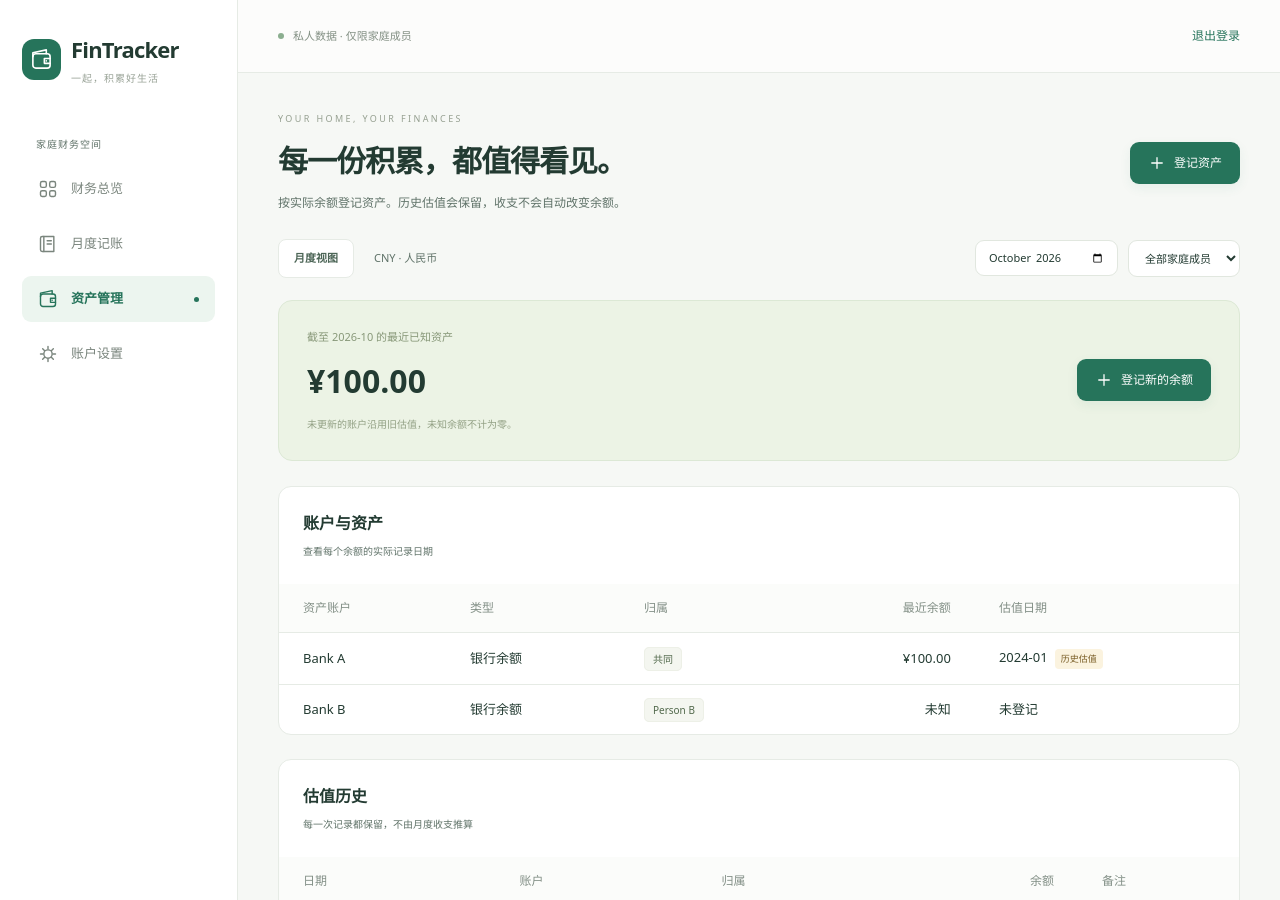
Scenario: household interface › updates selected assets only and never resets omitted accounts
Click the button "登记新的余额": (1144, 380) [1077,359,1211,401]
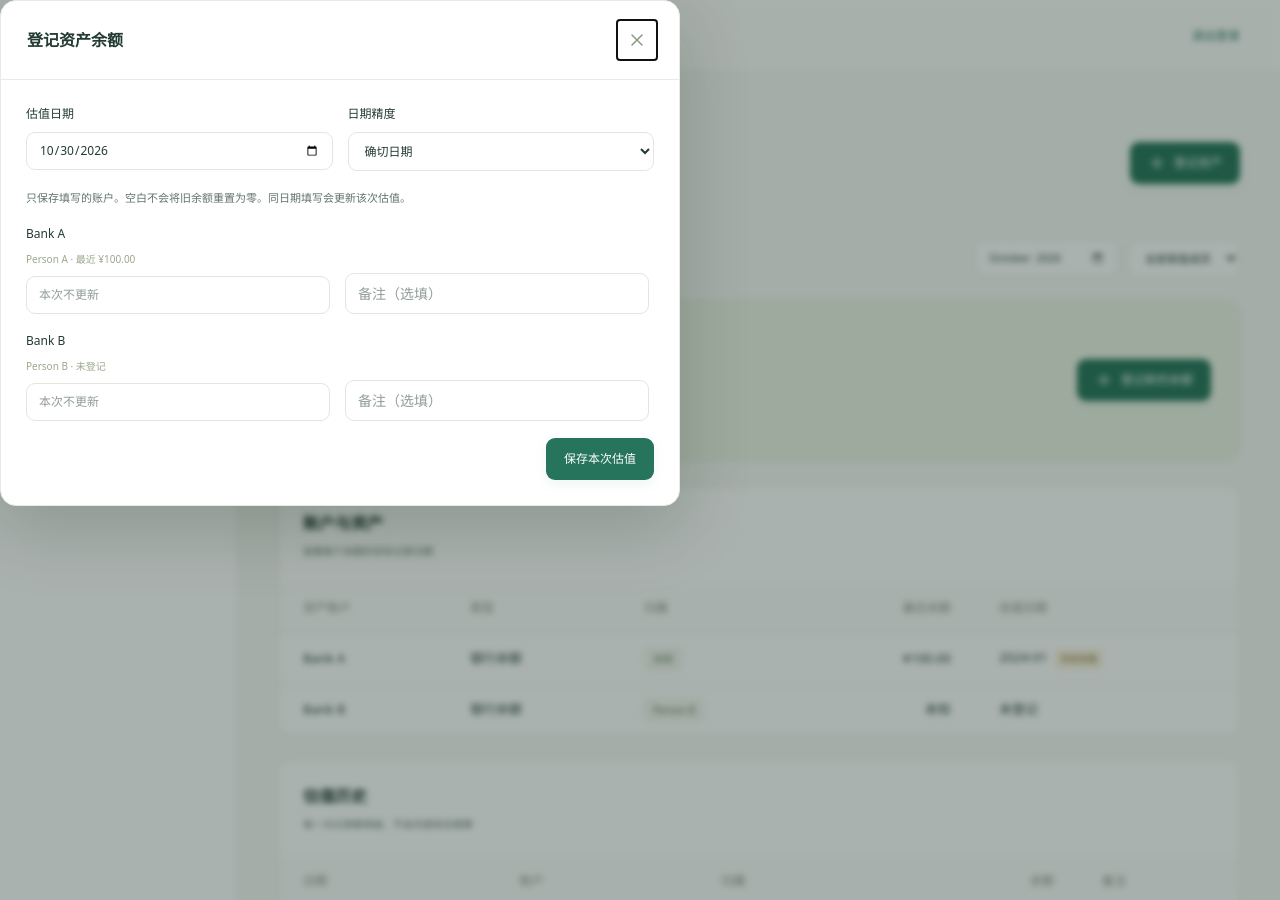
In the field named "Bank A 余额": (178, 295) [26,276,330,314], type "250.00"
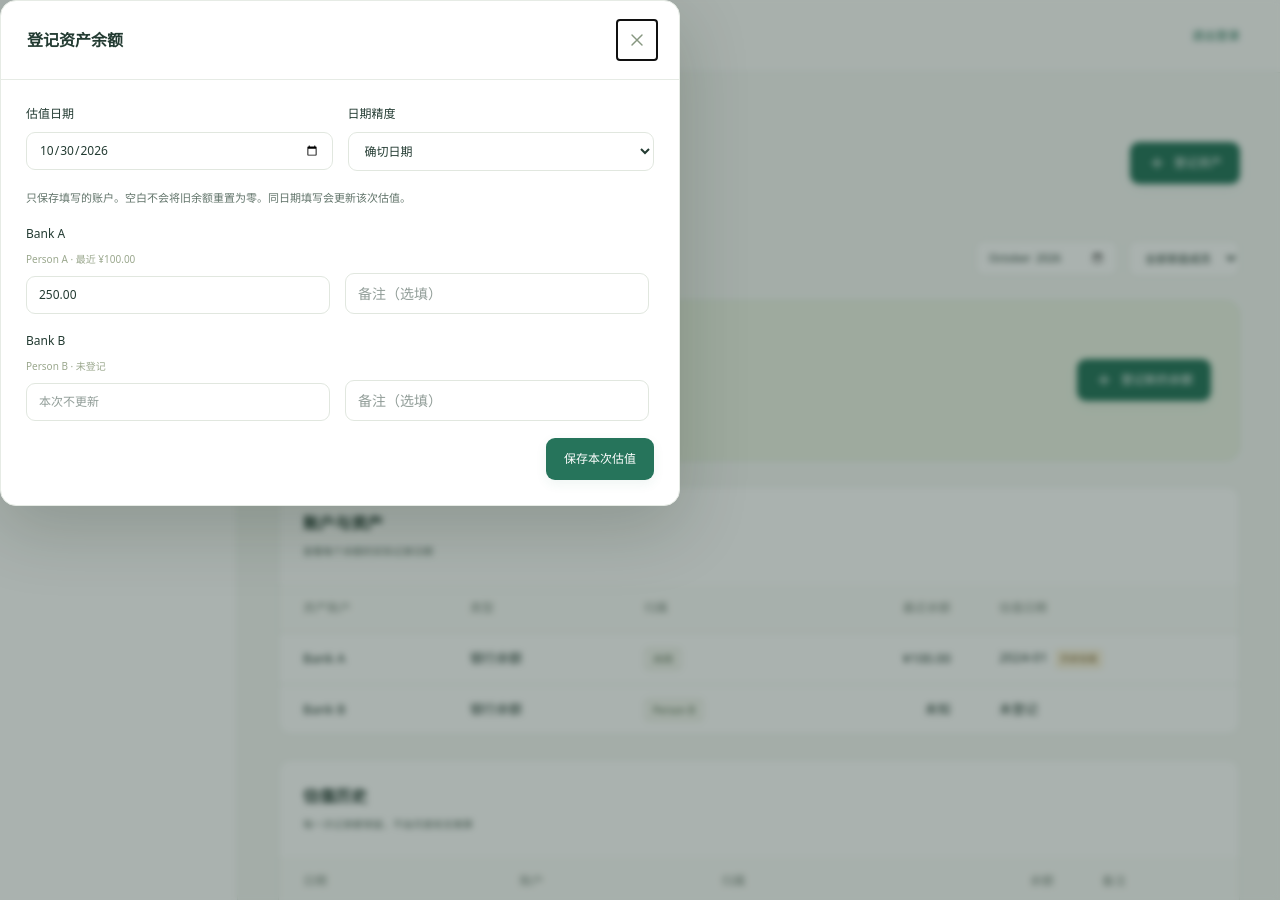
Click the button "保存本次估值": (600, 459) [546,438,654,480]
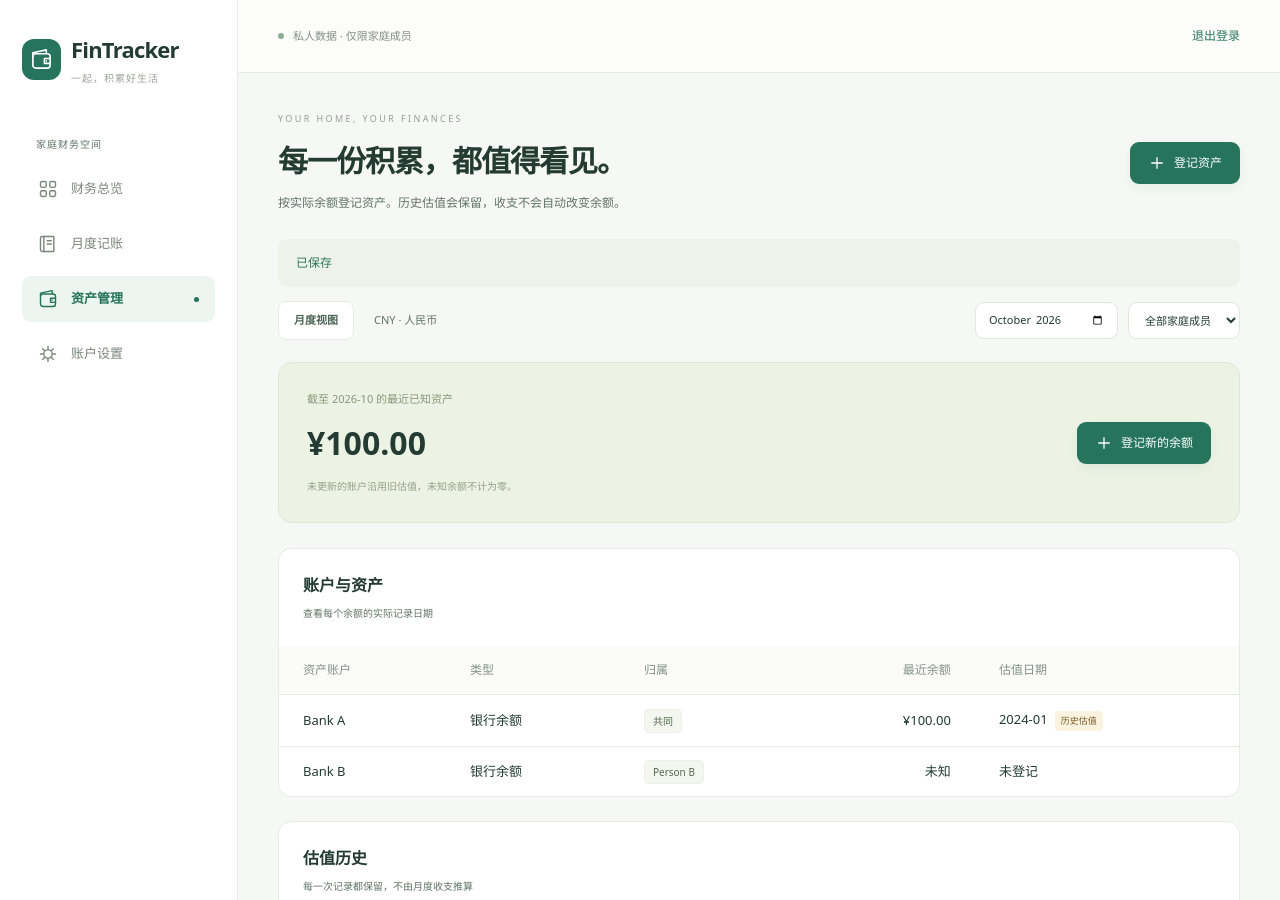
Now the text "已保存" is shown, box [278,239,1240,288]
